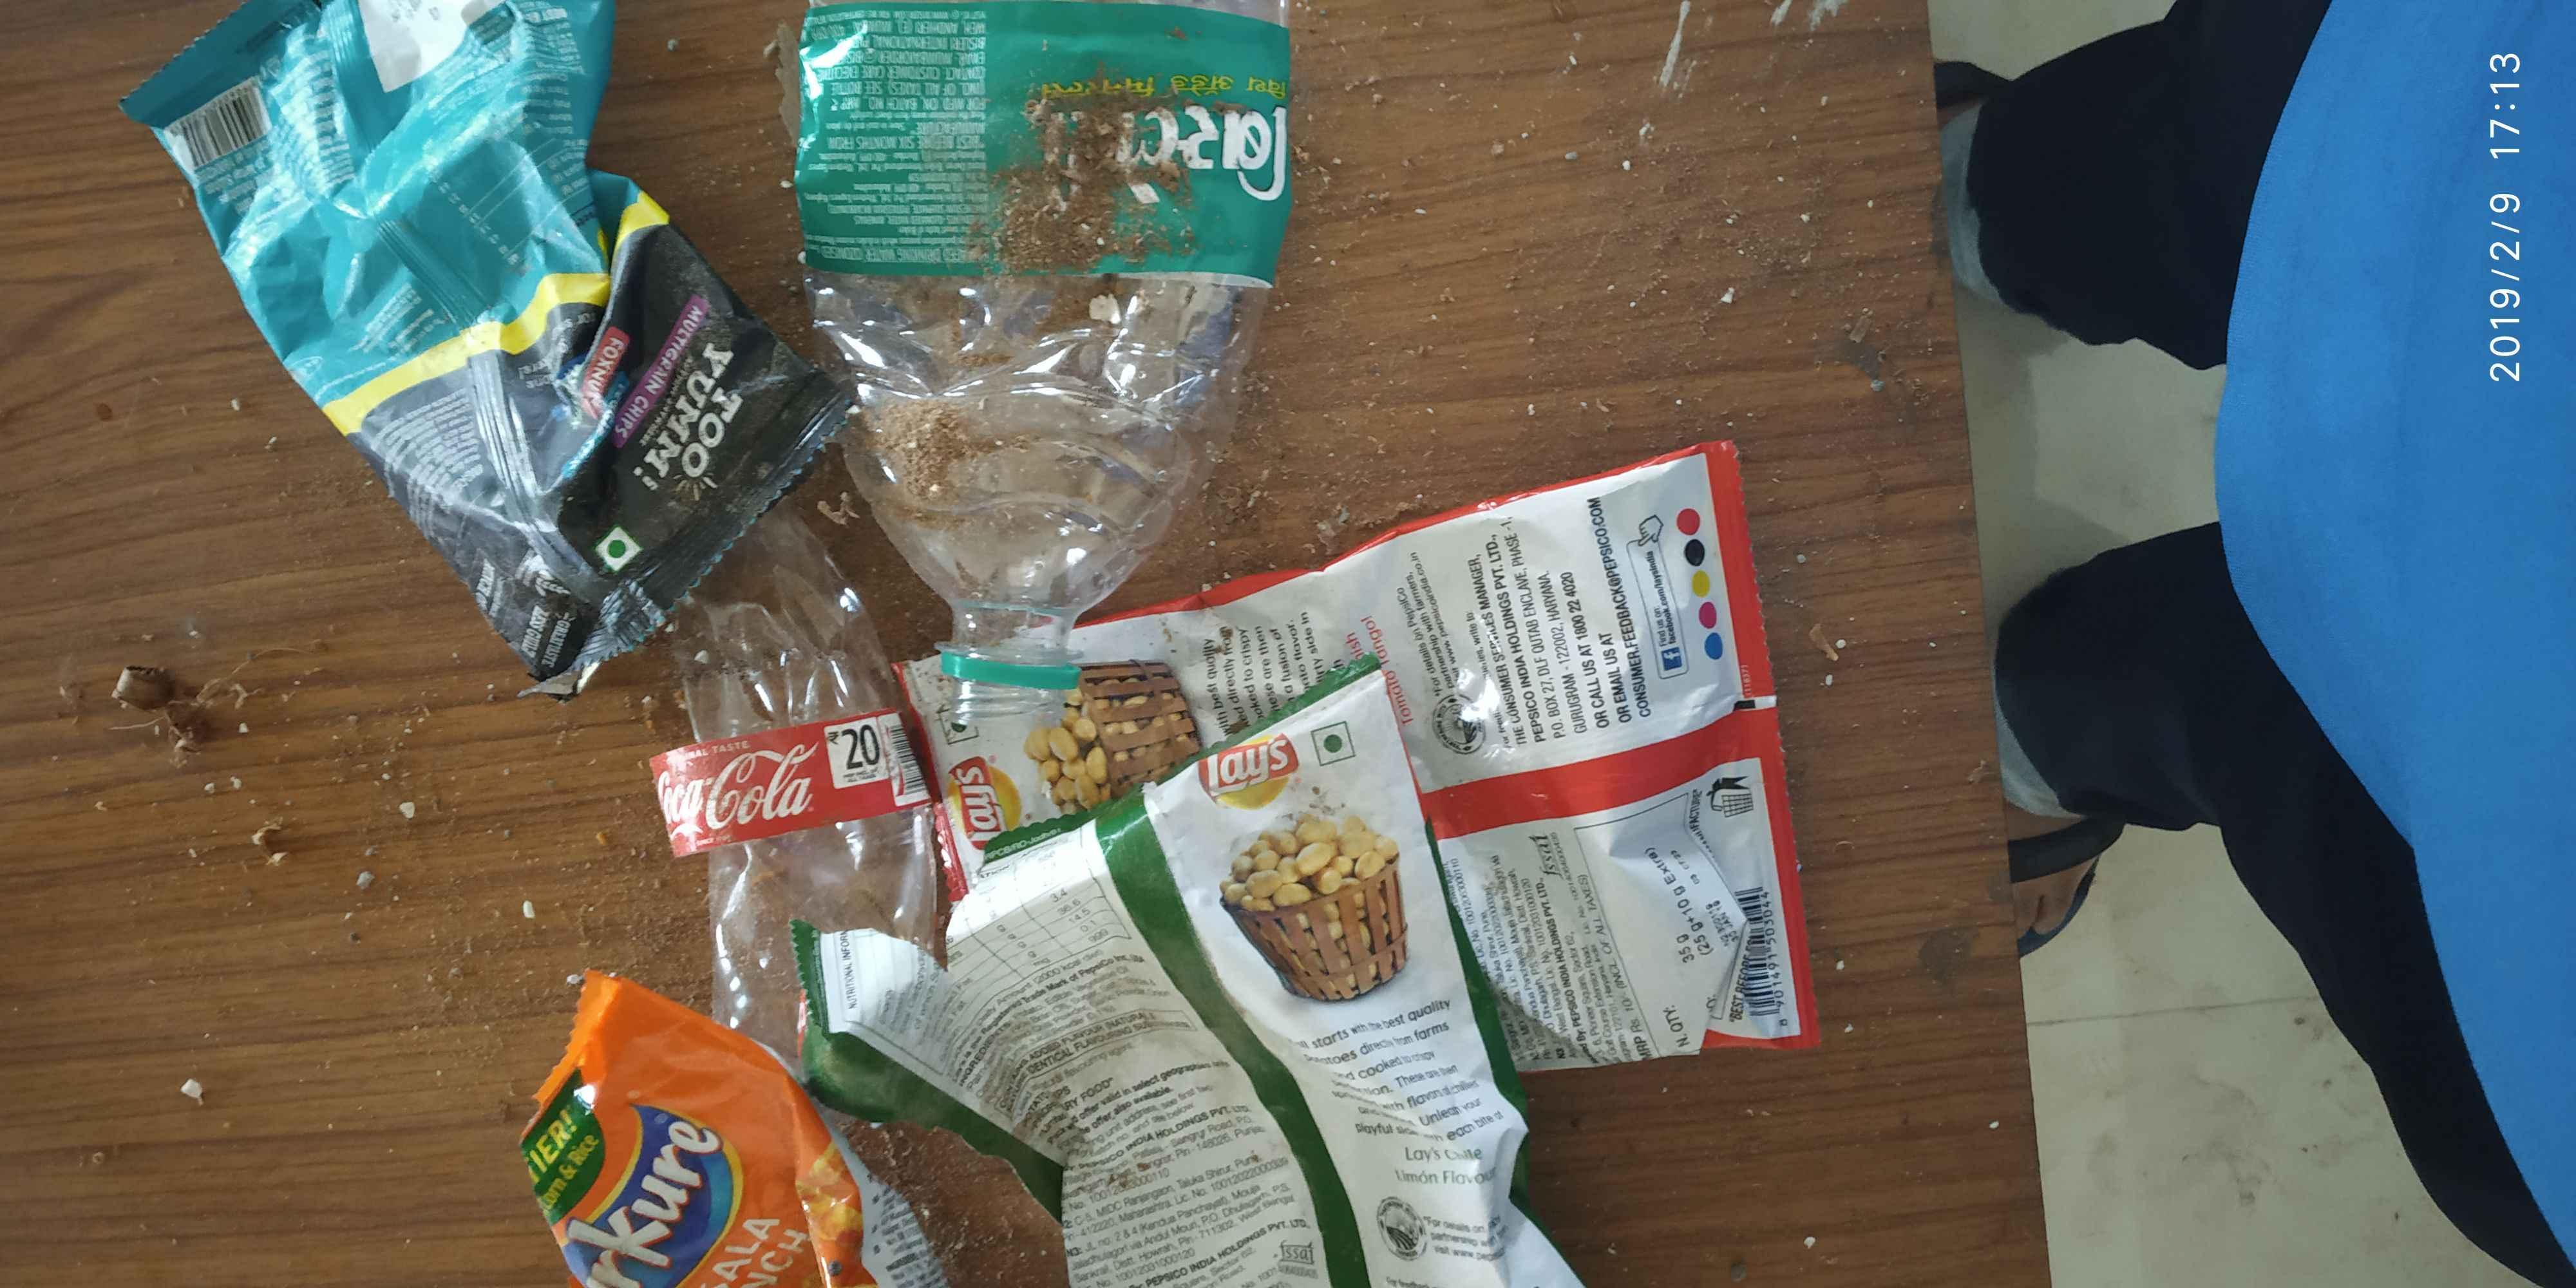Bisleri: (918, 33, 1296, 250)
Coca-Cola: (641, 751, 843, 826)
Lays: (927, 721, 1042, 849), (1183, 724, 1326, 815)
kurkure: (559, 1088, 749, 1288)
tooyumm: (600, 335, 766, 504)
